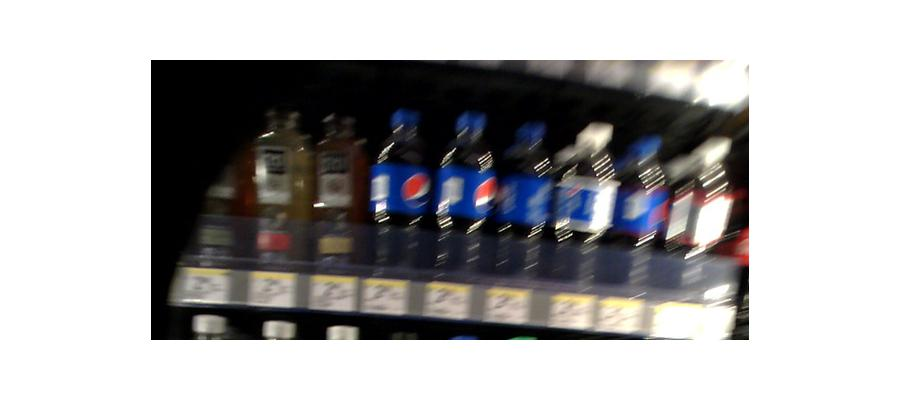bottle: (372, 109, 435, 269), (249, 110, 310, 275), (608, 131, 663, 313), (557, 125, 615, 296), (439, 116, 497, 276), (503, 120, 552, 283), (313, 130, 362, 272)
